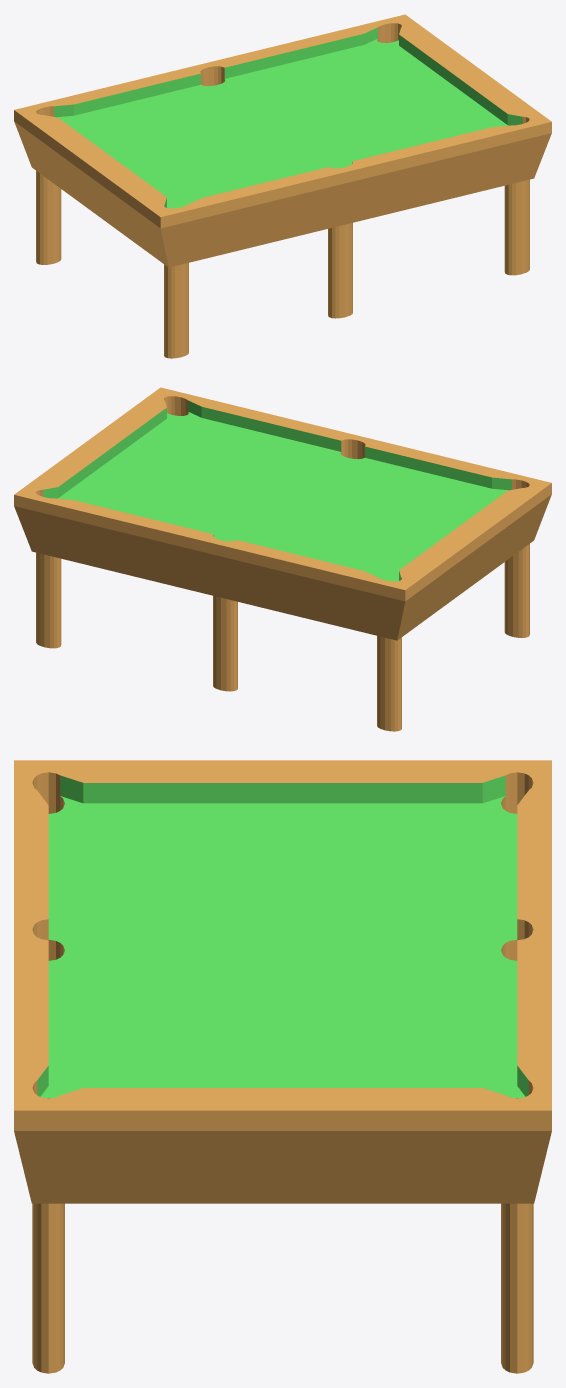
File: poolTable.fbx
3 renders of one model, top to bottom at view 1: azimuth 30°, elevation 25°; view 2: azimuth 150°, elevation 25°; view 3: azimuth 270°, elevation 25°, orthographic. The views are drawn at different scales.
Parts seen in each view (by area): view 1: Plane; view 2: Plane; view 3: Plane.
Part boxes in pixels (x1,y1,x2,y2): Plane: (14,14,551,358); Plane: (14,387,551,731); Plane: (14,760,551,1373).
Bounding box in the file's own units: 1180 × 432 × 766.
